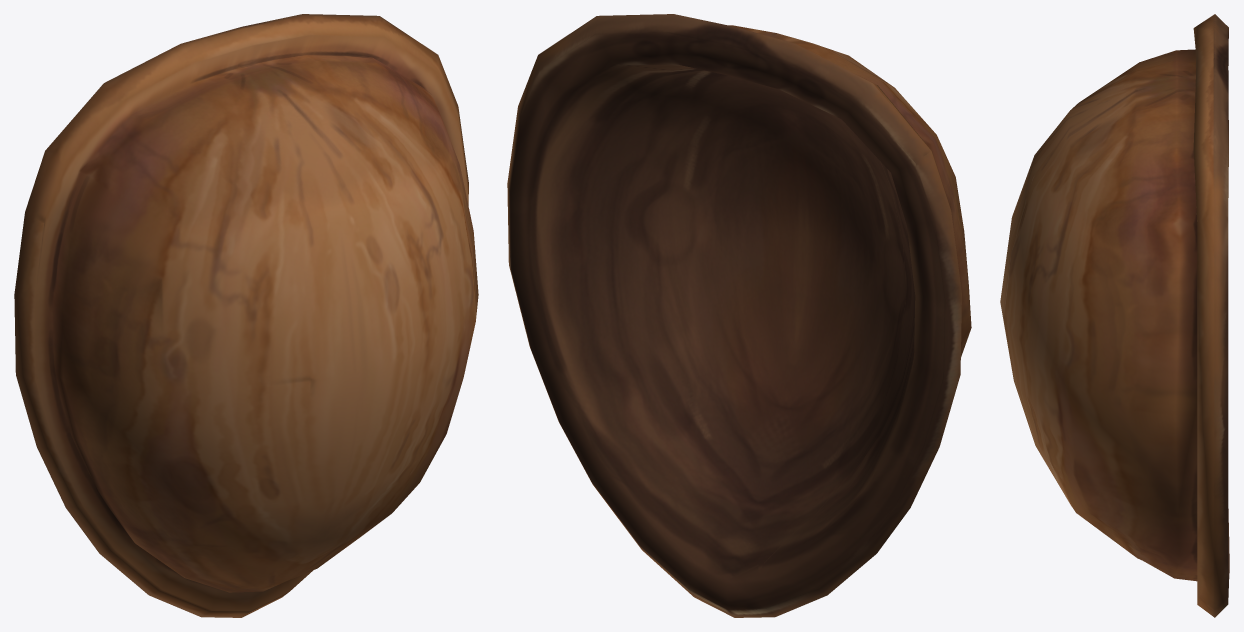
Rendered from WalnutShield.fbx.
3 views of the same model, side by side, from view 1: azimuth 30°, elevation 25°; view 2: azimuth 150°, elevation 25°; view 3: azimuth 270°, elevation 25° (orthographic). The views are drawn at different scales.
Visible parts, largest first — view 1: WalnutShield; view 2: WalnutShield; view 3: WalnutShield.
Boxes of the visible parts, x1=… form: WalnutShield: x1=14, y1=14, x2=478, y2=617; WalnutShield: x1=507, y1=14, x2=971, y2=617; WalnutShield: x1=1000, y1=14, x2=1229, y2=617.
Size of what is drawn, in the model's own units: 83.16 by 103 by 38.81.
Materials: 1 (1 with a texture image).
